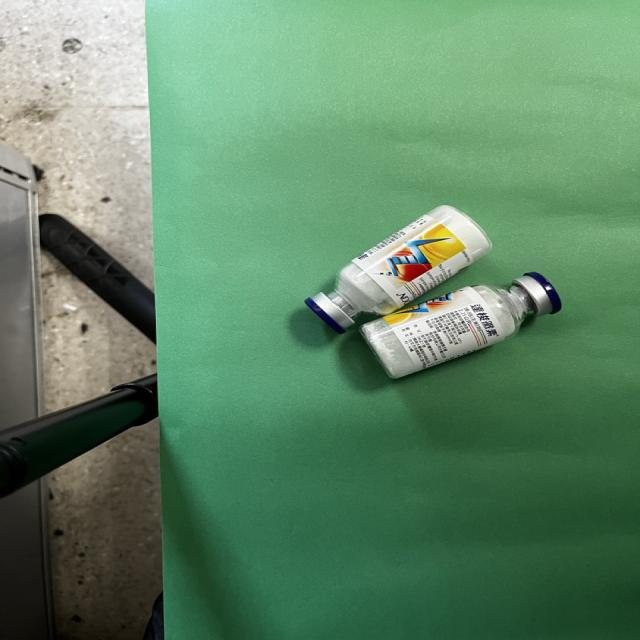Vials: (305, 206, 491, 334), (360, 272, 561, 378)
